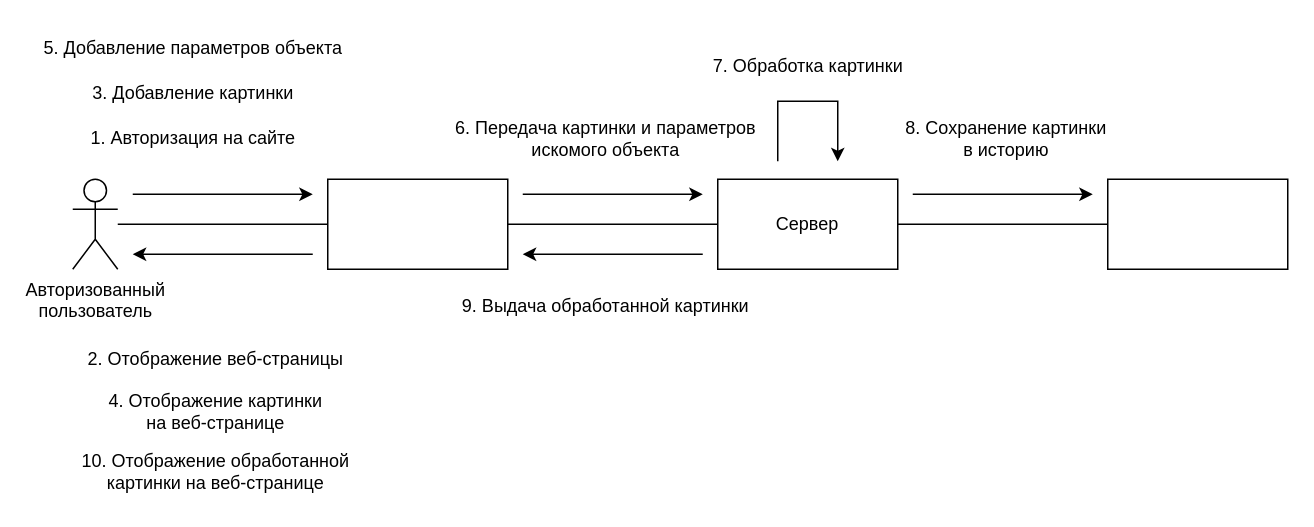
Some shapes in this 1314 by 527 pixel diagram are drawn without their labels. The shapes that lost their labels are listed below. From the top down, each one's centre as x and y in pixels, then its label:
the point at 417,223: Клиент
the point at 1197,223: БД
